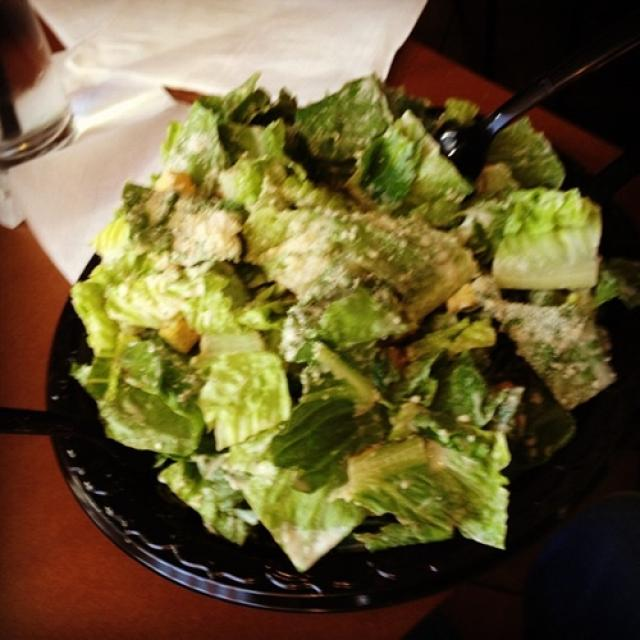蔬菜料理: (44, 64, 624, 608)
